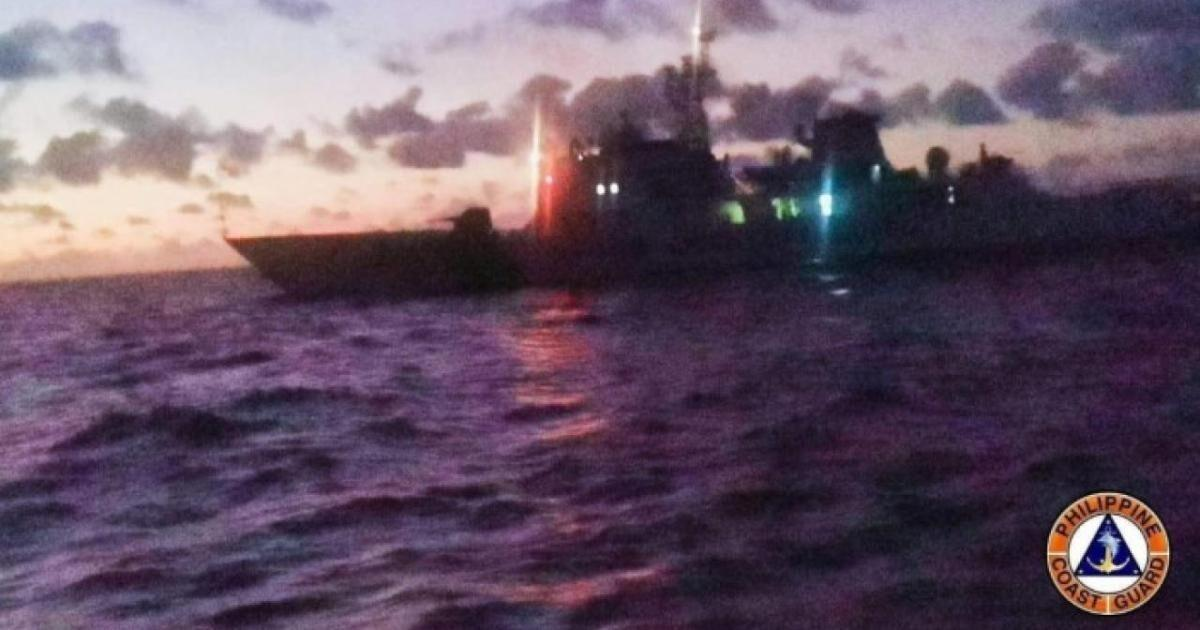MIL_Ship: (215, 99, 1188, 285)
